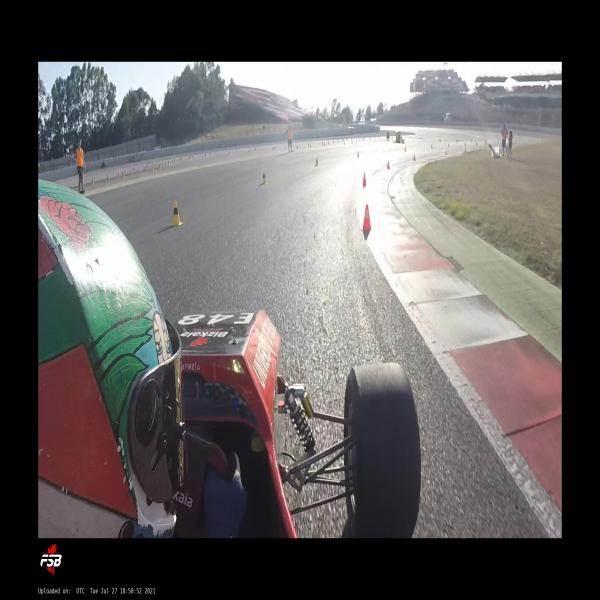orange_cone: (362, 205, 372, 230), (362, 173, 367, 187), (387, 160, 390, 170), (413, 154, 416, 161), (464, 147, 467, 152), (445, 149, 447, 155)
yellow_cone: (170, 201, 184, 227), (260, 172, 268, 186), (314, 157, 318, 166), (91, 178, 94, 186), (357, 151, 359, 157)
